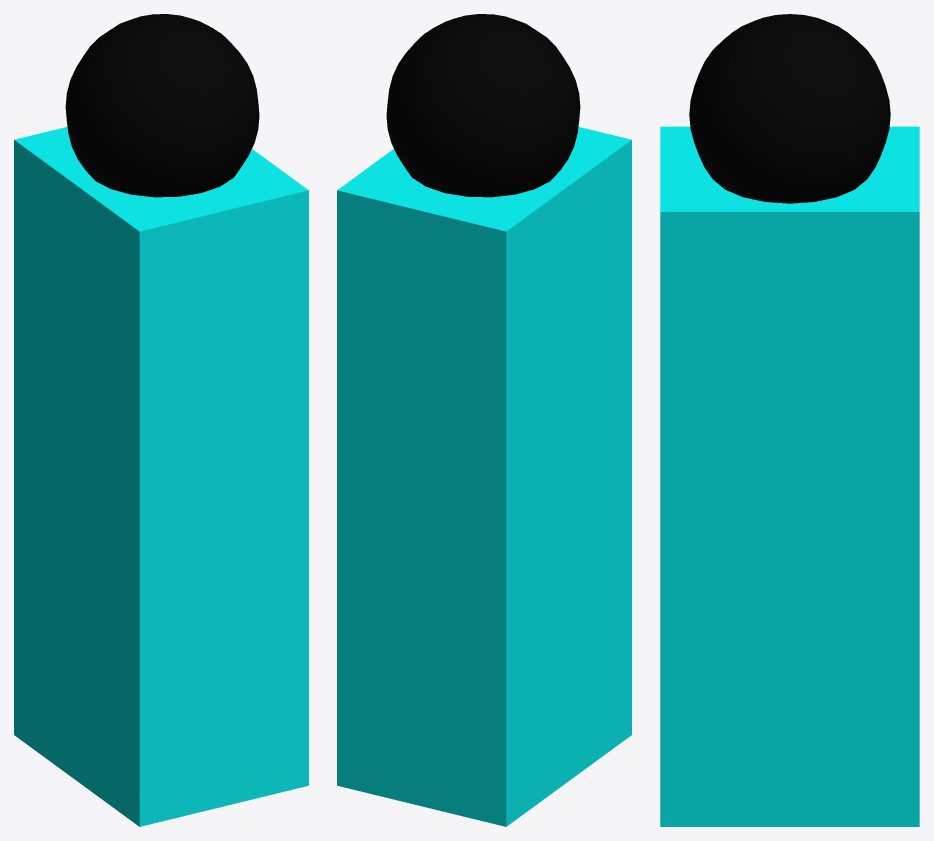
File: knee2.obj
3 views of the same model, side by side, from view 1: azimuth 30°, elevation 25°; view 2: azimuth 150°, elevation 25°; view 3: azimuth 270°, elevation 25° (orthographic). The views are drawn at different scales.
Visible parts, largest first — view 1: pCube30 polySurface12, polySurface19 pCube30; view 2: pCube30 polySurface12, polySurface19 pCube30; view 3: pCube30 polySurface12, polySurface19 pCube30.
Boxes of the visible parts, <box> form: pCube30 polySurface12: <box>14,127,308,826</box>; polySurface19 pCube30: <box>65,14,259,197</box>; pCube30 polySurface12: <box>337,127,631,826</box>; polySurface19 pCube30: <box>386,14,580,197</box>; pCube30 polySurface12: <box>660,126,919,826</box>; polySurface19 pCube30: <box>689,14,890,203</box>.
Bounding box in the file's own units: 1.16 × 4.82 × 1.49.
